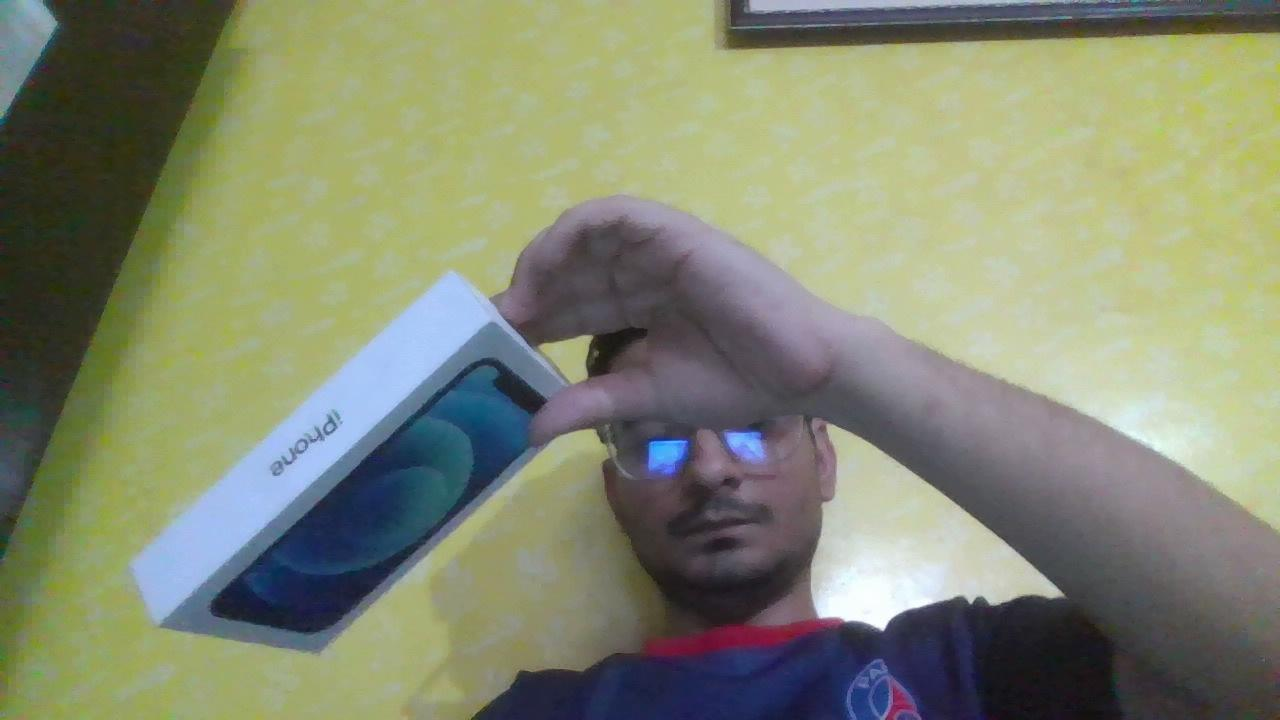Phone: (139, 333, 523, 667)
